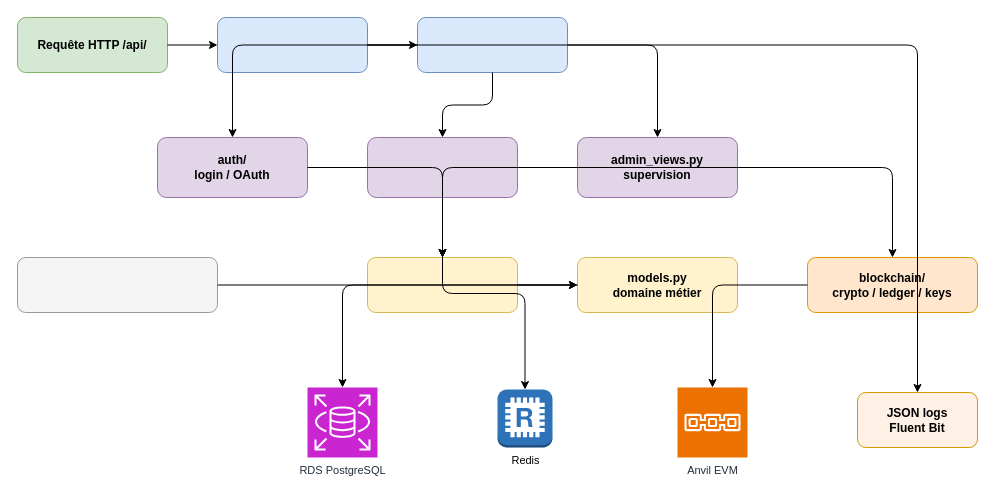
Image size: 995x495. Some labels were removed from this diagram. Here are the shapes that lost their labels. From the top down, the box of each, then its label:
(216, 16, 368, 72): Middleware X-Request-ID
(416, 16, 568, 72): config/urls.py
(366, 136, 518, 198): views.py traitements
(16, 256, 218, 312): management commands seed / recover_anchors
(366, 256, 518, 312): serializers.py
